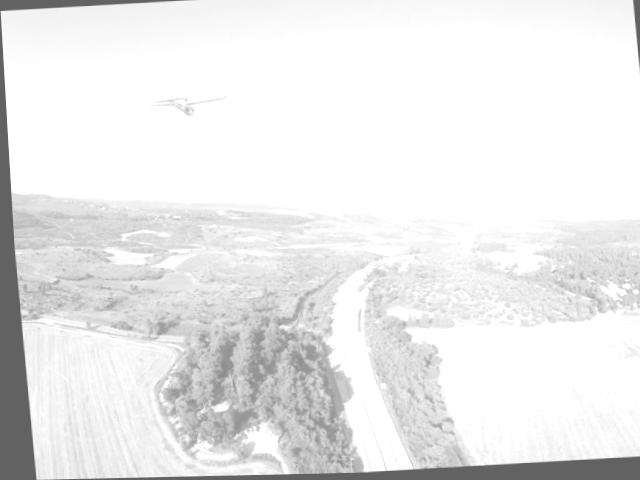hedef: (108, 67, 247, 129)
